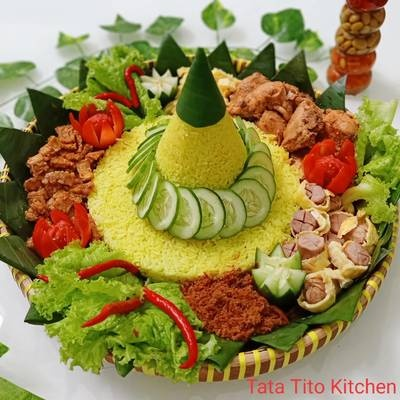nasi_tumpeng: (24, 48, 378, 355)
